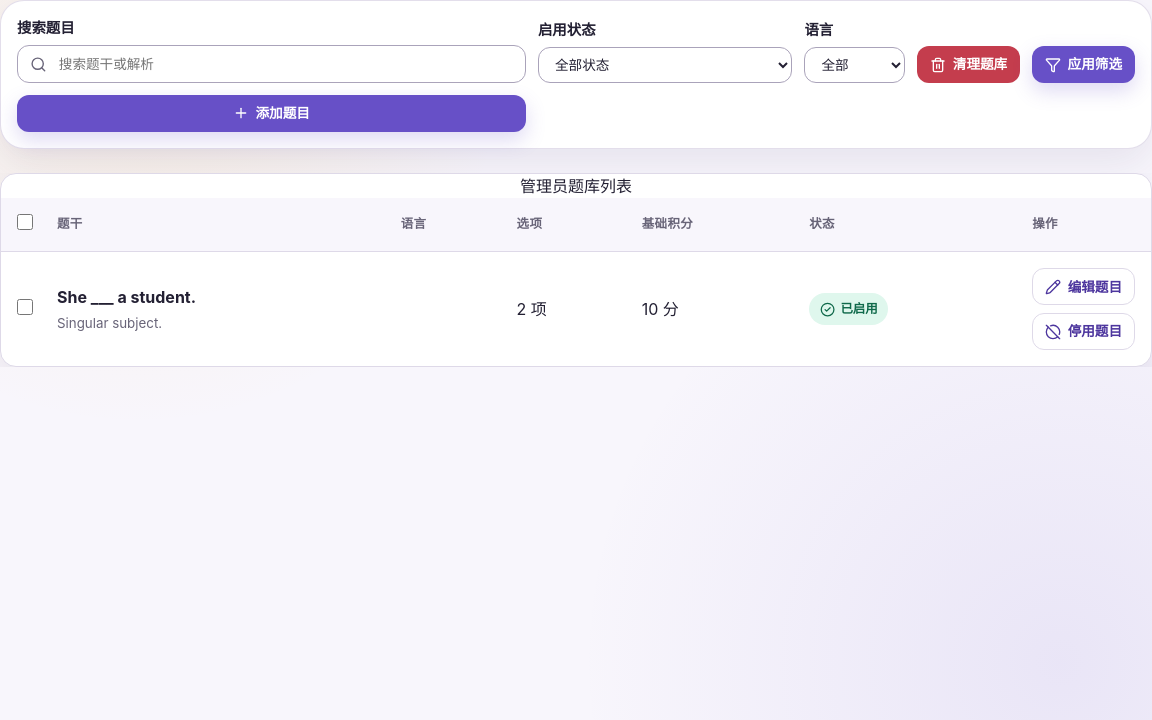
Test: 管理员运营页面 › 题库停用成功后同步文字与图标状态
Click the button "停用题目". click: (1084, 332)
box: [1032, 313, 1135, 350]
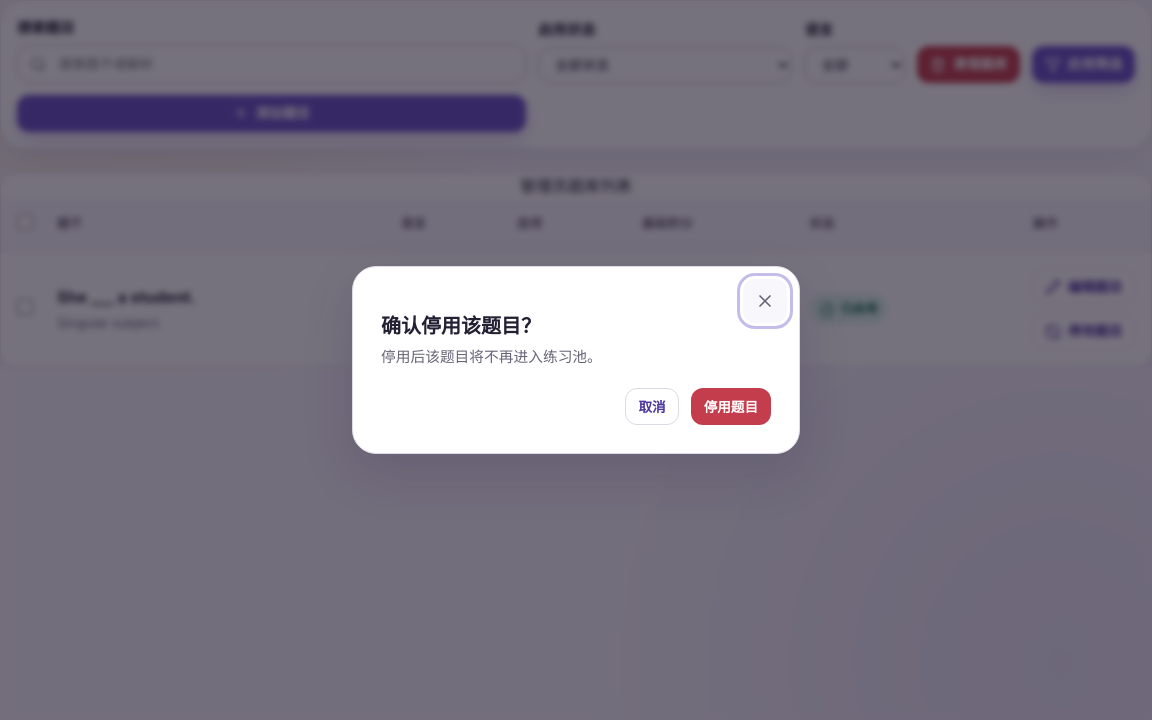
Click the button "停用题目". click: (731, 407)
box: [691, 388, 771, 425]
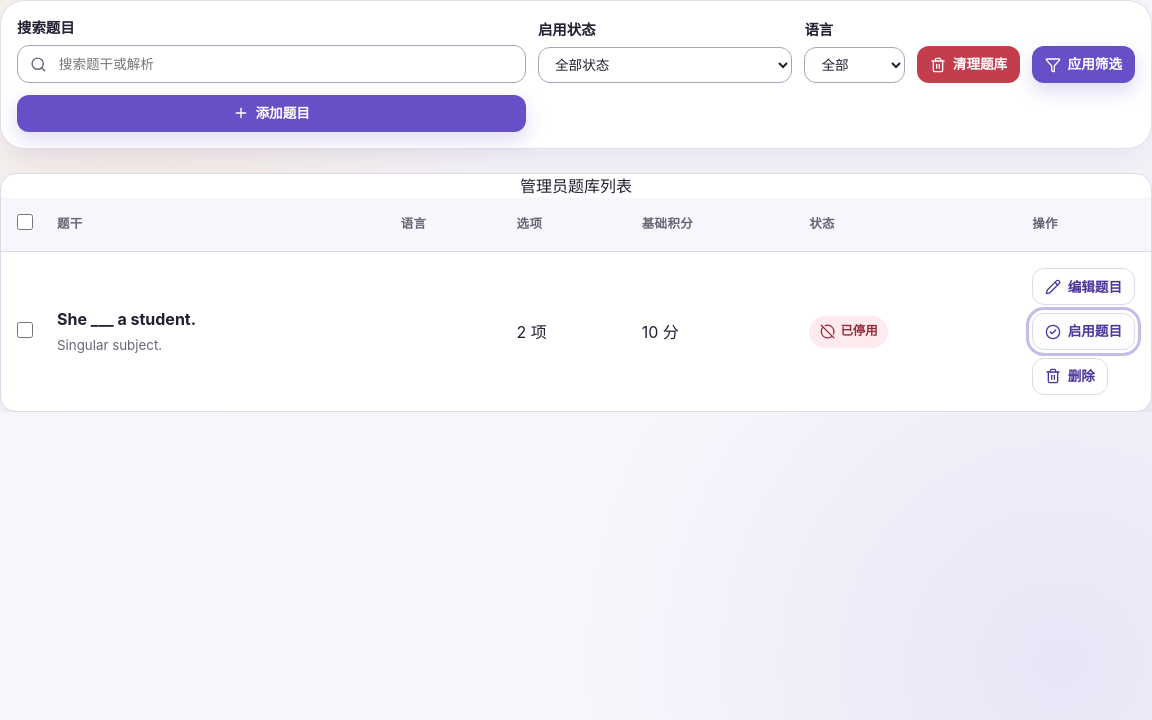
expect the picture named "已停用状态图标" is shown: met, box [820, 324, 835, 339]
